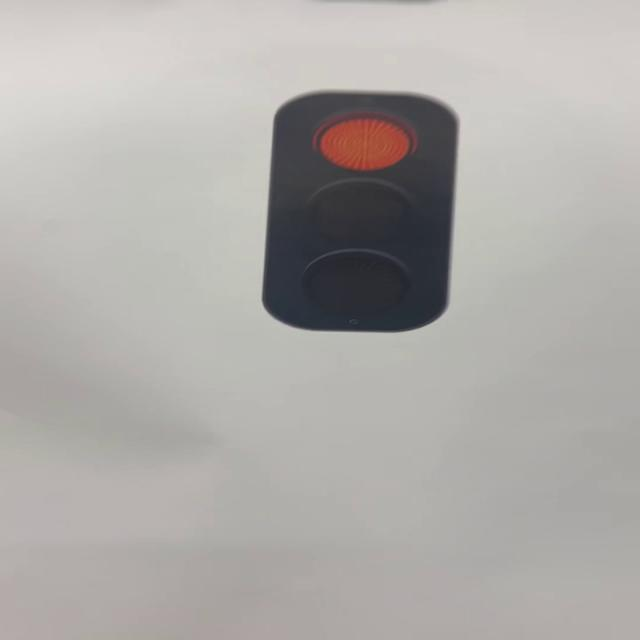red: (266, 89, 465, 332)
